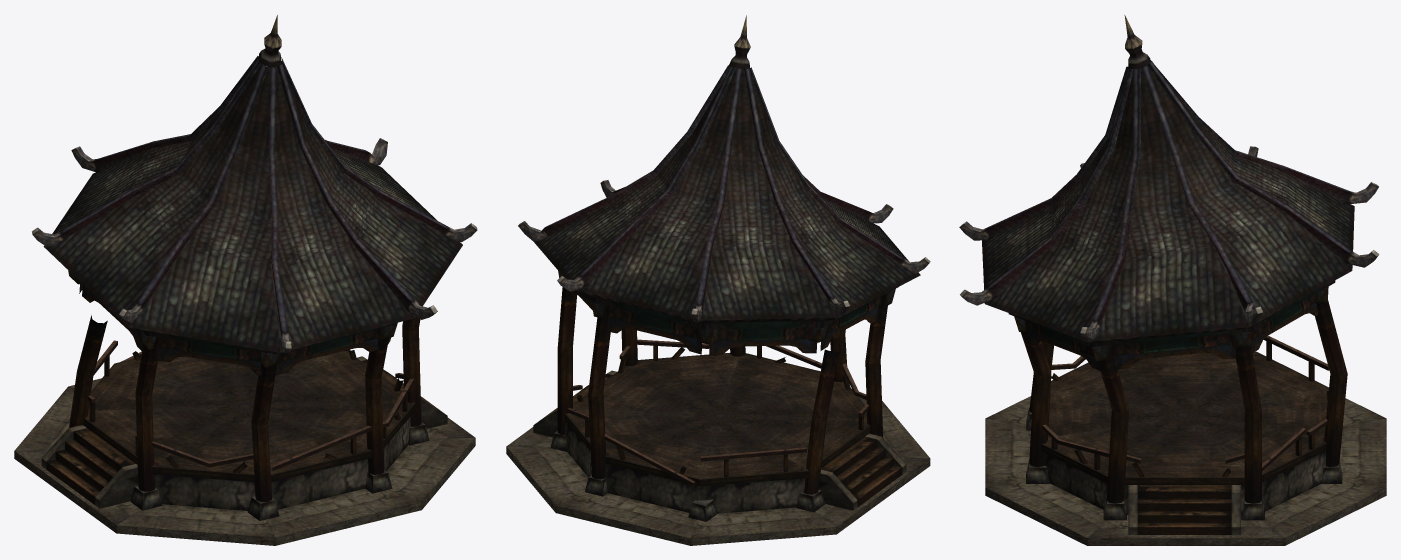
File: b1-001-house3_01_01.glb
The picture shows the model from 3 angles, left to right: view 1: azimuth 30°, elevation 25°; view 2: azimuth 150°, elevation 25°; view 3: azimuth 270°, elevation 25°; orthographic projection. The views are drawn at different scales.
Visible parts, largest first — view 1: b1-001-house3; view 2: b1-001-house3; view 3: b1-001-house3.
Boxes of the visible parts, <box> form: b1-001-house3: <box>14,15,477,545</box>; b1-001-house3: <box>506,15,930,545</box>; b1-001-house3: <box>959,15,1386,545</box>.
Size of the model in its own units: 8.17 by 10.02 by 8.67.
Materials: 1 (1 with a texture image).
